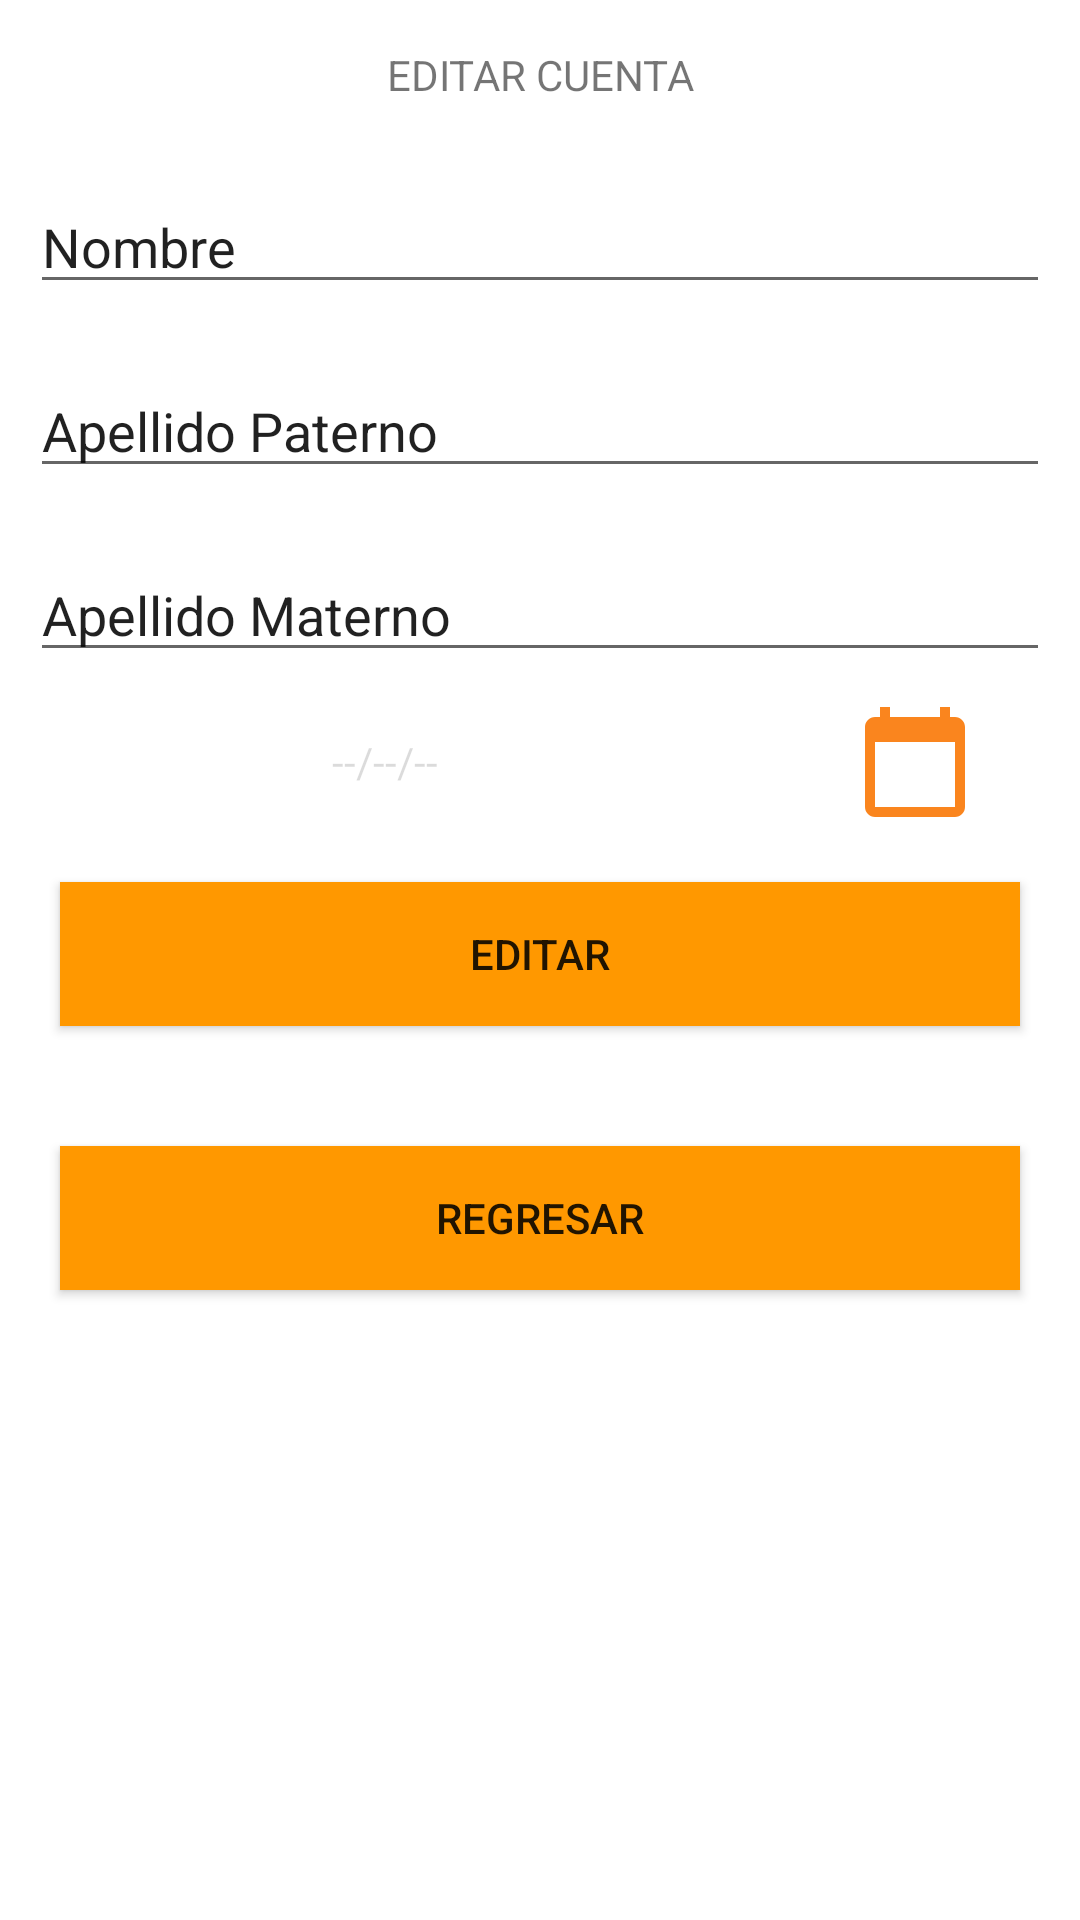

Named icons in this screenshot (1080w x 1920h) and their bounding boxes, (x1, y1, x2, y2):
calendar today: (865, 707, 965, 817)
